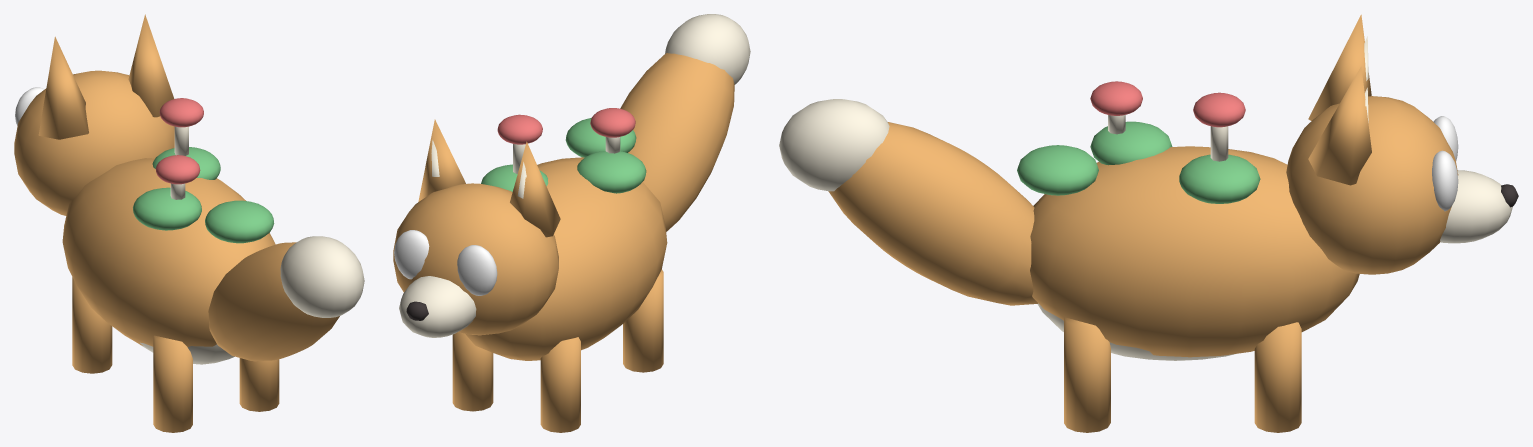
File: moss_fox.glb
The picture shows the model from 3 angles, left to right: view 1: azimuth 30°, elevation 25°; view 2: azimuth 150°, elevation 25°; view 3: azimuth 270°, elevation 25°; orthographic projection. The views are drawn at different scales.
Visible parts, largest first — view 1: moss_fox; view 2: moss_fox; view 3: moss_fox.
Boxes of the visible parts, x1,y1,x2,y2 form: moss_fox: (14,14,364,432); moss_fox: (393,14,750,432); moss_fox: (779,14,1518,432).
Bounding box in the file's own units: 0.76 × 1.35 × 2.52.
